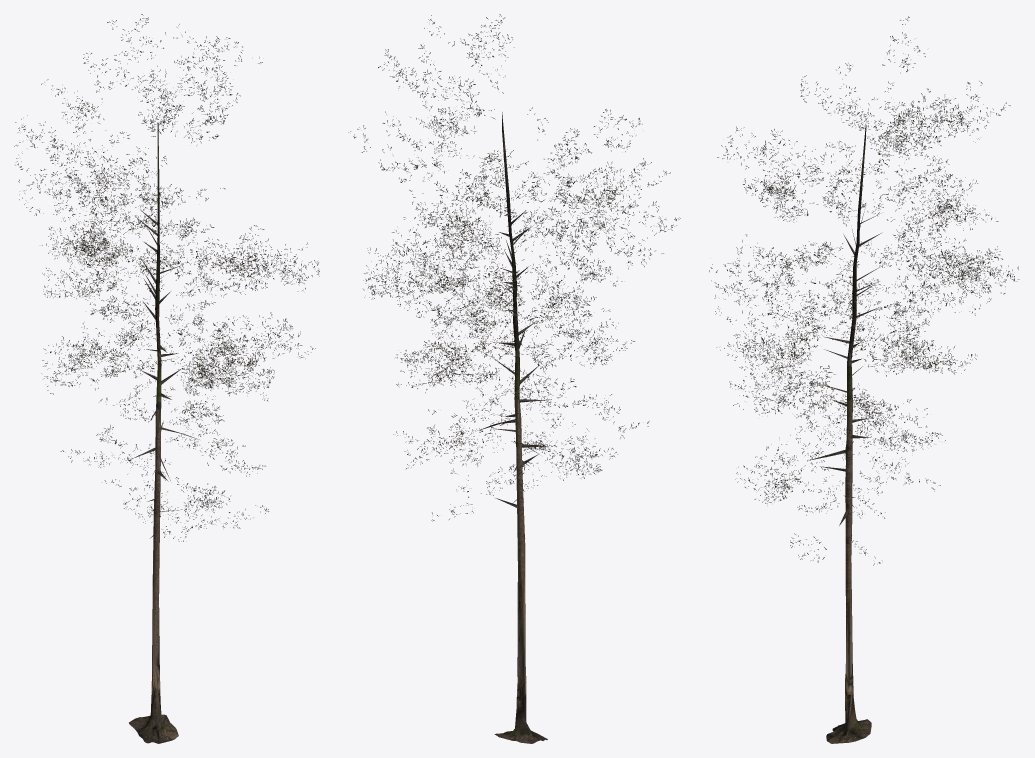
Rendered from pine_tree_01-lod0.glb.
3 renders of one model, left to right at view 1: azimuth 30°, elevation 25°; view 2: azimuth 150°, elevation 25°; view 3: azimuth 270°, elevation 25°, orthographic. The views are drawn at different scales.
Parts seen in each view (by area): view 1: pine_tree_01_a_LOD0; view 2: pine_tree_01_a_LOD0; view 3: pine_tree_01_a_LOD0.
Boxes of the visible parts, x1=… form: pine_tree_01_a_LOD0: x1=14, y1=14, x2=319, y2=743; pine_tree_01_a_LOD0: x1=348, y1=14, x2=680, y2=743; pine_tree_01_a_LOD0: x1=709, y1=16, x2=1019, y2=743.
Size of the model in its own units: 4.39 by 11.93 by 4.71.
Materials: 4 (4 with a texture image).
